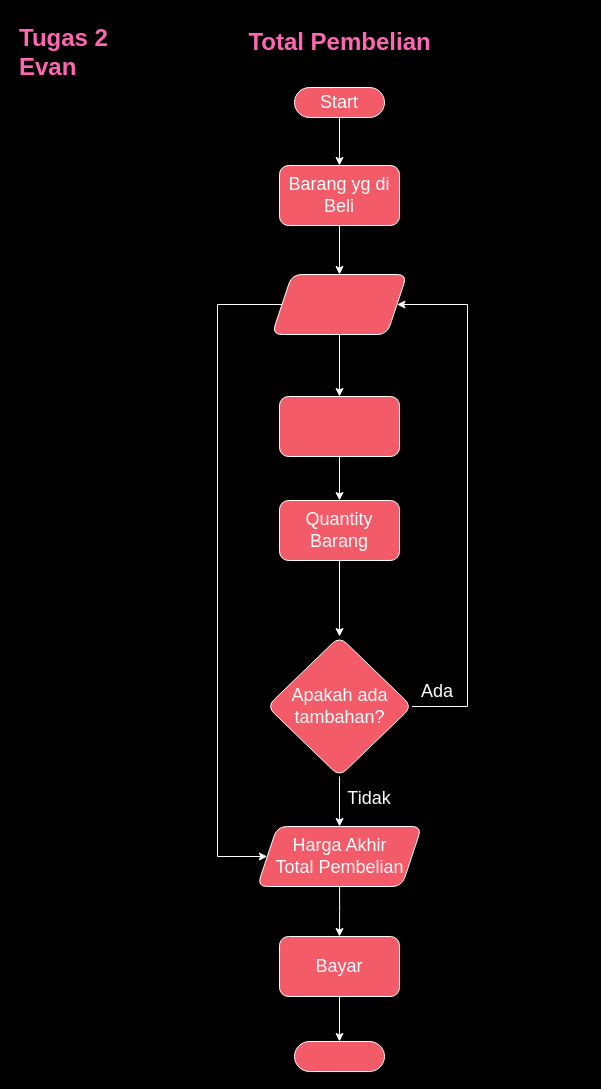
Image size: 601x1089. Some labels were removed from this diagram. The centre of each missing label's shape, as x and y in pixels:
"End" belongs at point (339, 1056).
"Hitung Total" belongs at point (339, 304).
"Jenis Barang" belongs at point (339, 426).
